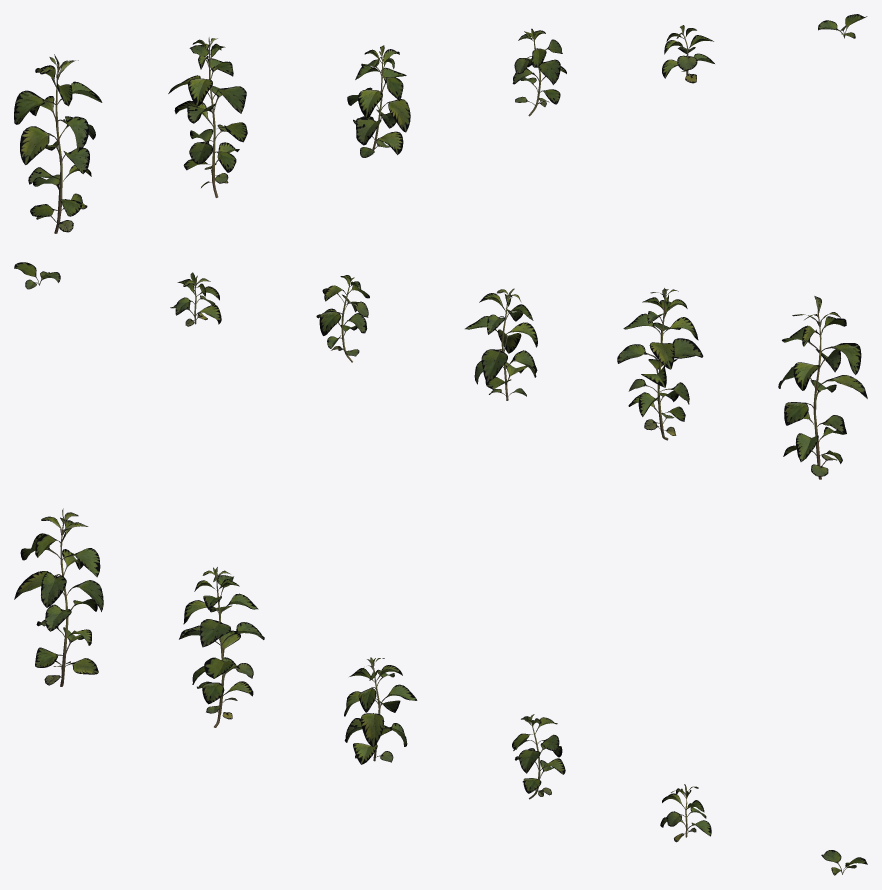
File: nettle_plant.glb
The picture shows the model from 3 angles, top to bottom: view 1: azimuth 30°, elevation 25°; view 2: azimuth 150°, elevation 25°; view 3: azimuth 330°, elevation 25°; orthographic projection.
Visible parts, largest first — view 1: nettle_plant_tall_a_LOD0, nettle_plant_tall_b_LOD0, nettle_plant_medium_a_LOD0, nettle_plant_medium_b_LOD0, nettle_plant_small_a_LOD0; view 2: nettle_plant_tall_a_LOD0, nettle_plant_tall_b_LOD0, nettle_plant_medium_a_LOD0, nettle_plant_medium_b_LOD0, nettle_plant_small_a_LOD0, nettle_plant_small_b_LOD0; view 3: nettle_plant_tall_a_LOD0, nettle_plant_tall_b_LOD0, nettle_plant_medium_a_LOD0, nettle_plant_medium_b_LOD0, nettle_plant_small_a_LOD0.
Part boxes in pixels (x1,y1,x2,y2): nettle_plant_tall_a_LOD0: (14,54,102,233); nettle_plant_tall_b_LOD0: (168,37,247,197); nettle_plant_medium_a_LOD0: (347,45,410,157); nettle_plant_medium_b_LOD0: (512,28,566,116); nettle_plant_small_a_LOD0: (662,25,714,83); nettle_plant_tall_a_LOD0: (778,296,867,479); nettle_plant_tall_b_LOD0: (617,288,703,440); nettle_plant_medium_a_LOD0: (465,288,537,400); nettle_plant_medium_b_LOD0: (316,275,369,362); nettle_plant_small_a_LOD0: (170,272,221,326); nettle_plant_small_b_LOD0: (14,262,60,289); nettle_plant_tall_a_LOD0: (14,508,103,686); nettle_plant_tall_b_LOD0: (179,567,264,727); nettle_plant_medium_a_LOD0: (344,657,417,764); nettle_plant_medium_b_LOD0: (512,714,565,799); nettle_plant_small_a_LOD0: (660,784,711,842).
Bounding box in the file's own units: 1.08 × 0.2183 × 0.0947.
Materials: 1 (1 with a texture image).
